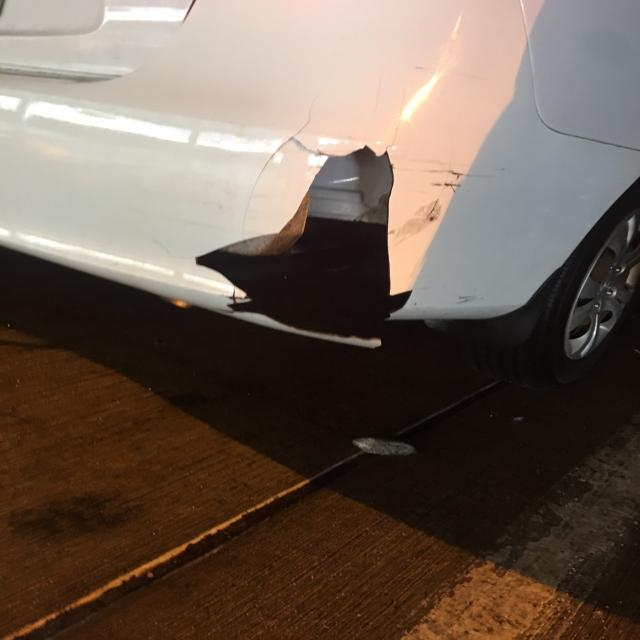scratch: (388, 159, 495, 250), (453, 293, 487, 304)
tear: (195, 92, 417, 345)
